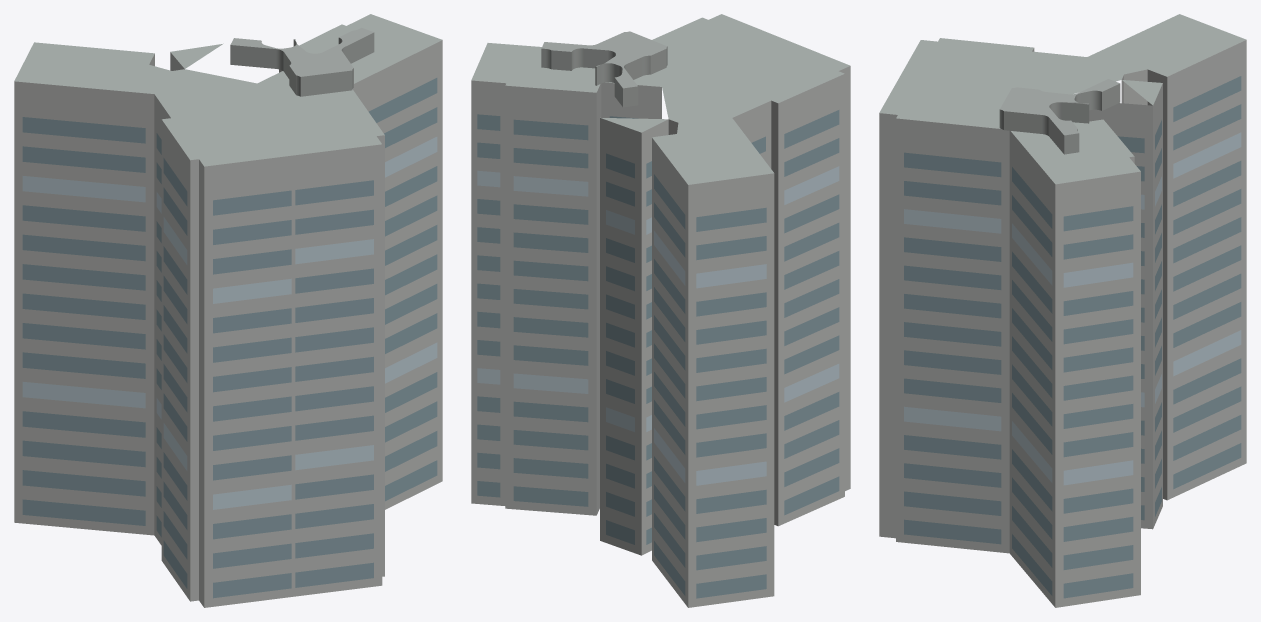
File: apt-a13009101.glb
3 renders of one model, left to right at view 1: azimuth 30°, elevation 25°; view 2: azimuth 150°, elevation 25°; view 3: azimuth 270°, elevation 25°, orthographic. The views are drawn at different scales.
Visible parts, largest first — view 1: apt-a13009101; view 2: apt-a13009101; view 3: apt-a13009101.
Part boxes in pixels (bbox=[...]): apt-a13009101: bbox=[14, 14, 442, 607]; apt-a13009101: bbox=[471, 14, 850, 607]; apt-a13009101: bbox=[879, 14, 1246, 607].
Bounding box in the file's own units: 39.48 × 47.81 × 35.99.
